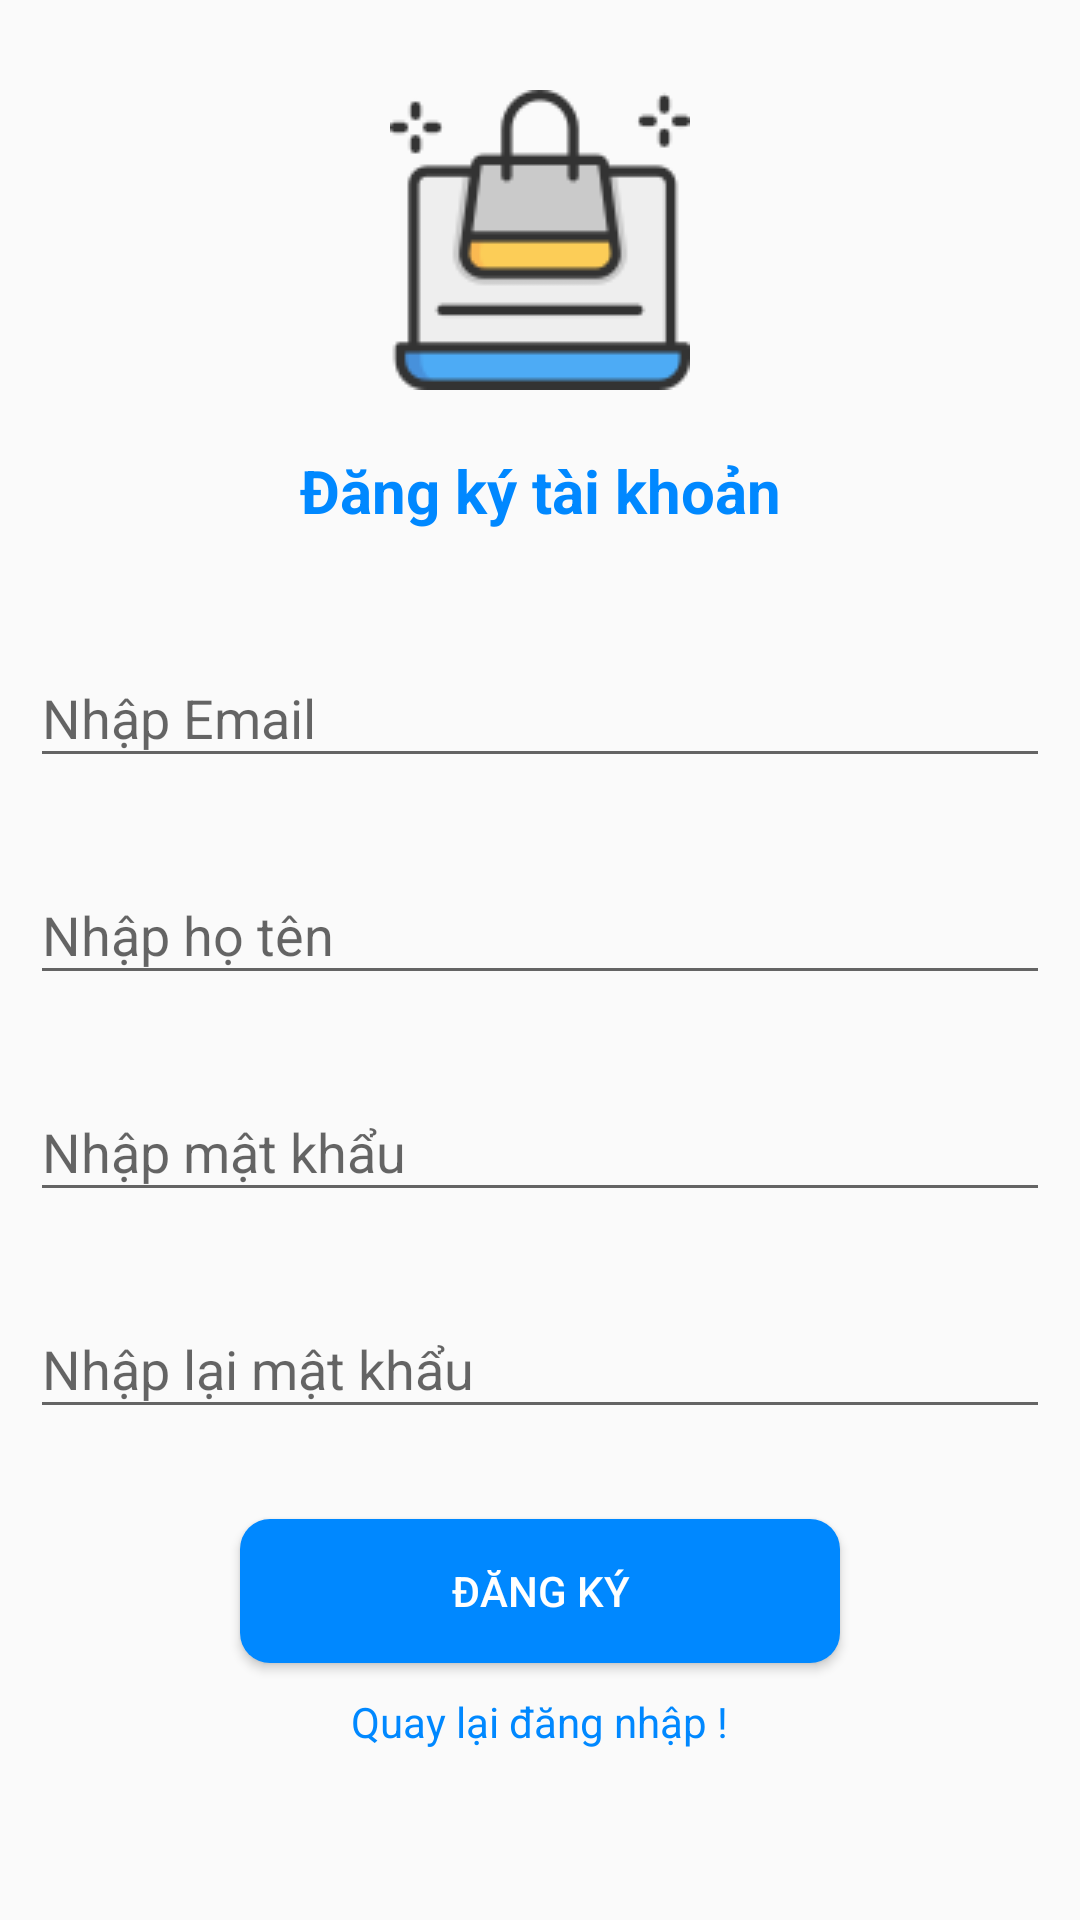

Named icons in this screenshot (1080px×1920px) and their centers, point (x, y):
shop online: point (540, 240)
